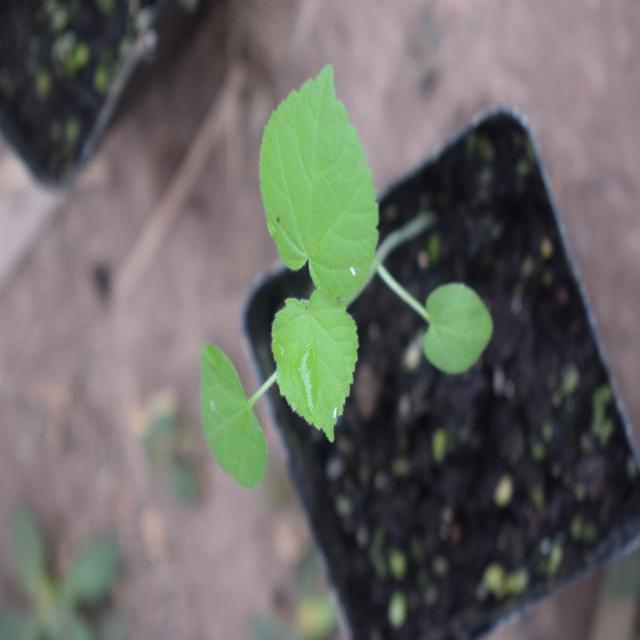abutilon theophrasti: (186, 66, 486, 464)
